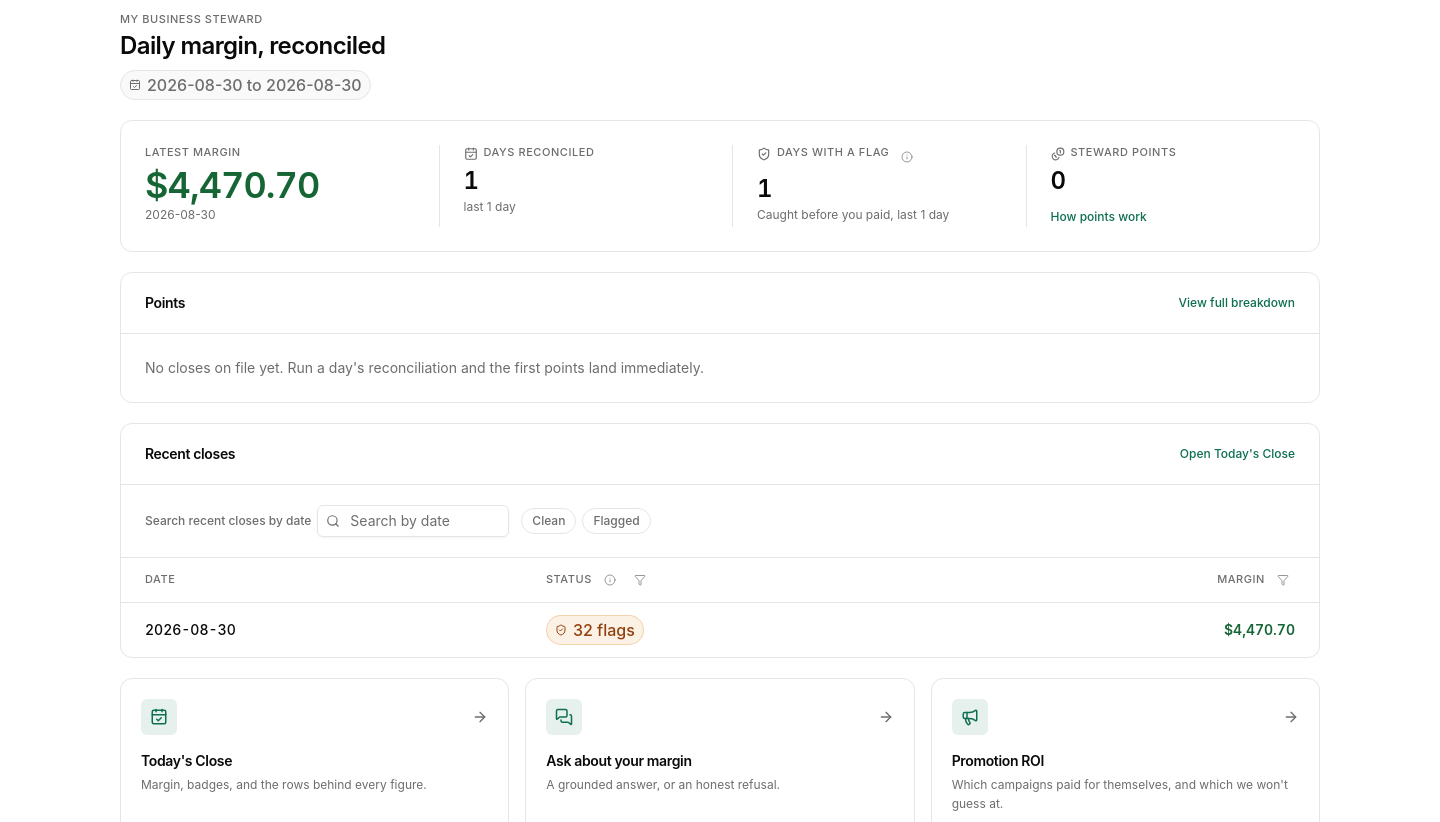
HomePage › summarizes many flags of the same type instead of joining each one's raw technical detail
This screenshot has width=1440, height=822.
Check: the heading "Recent closes" is shown, box [145,444,235,464]
Hover over the button with aria-label "What flagged 2026-08-30?": (595, 630) [546,615,644,645]
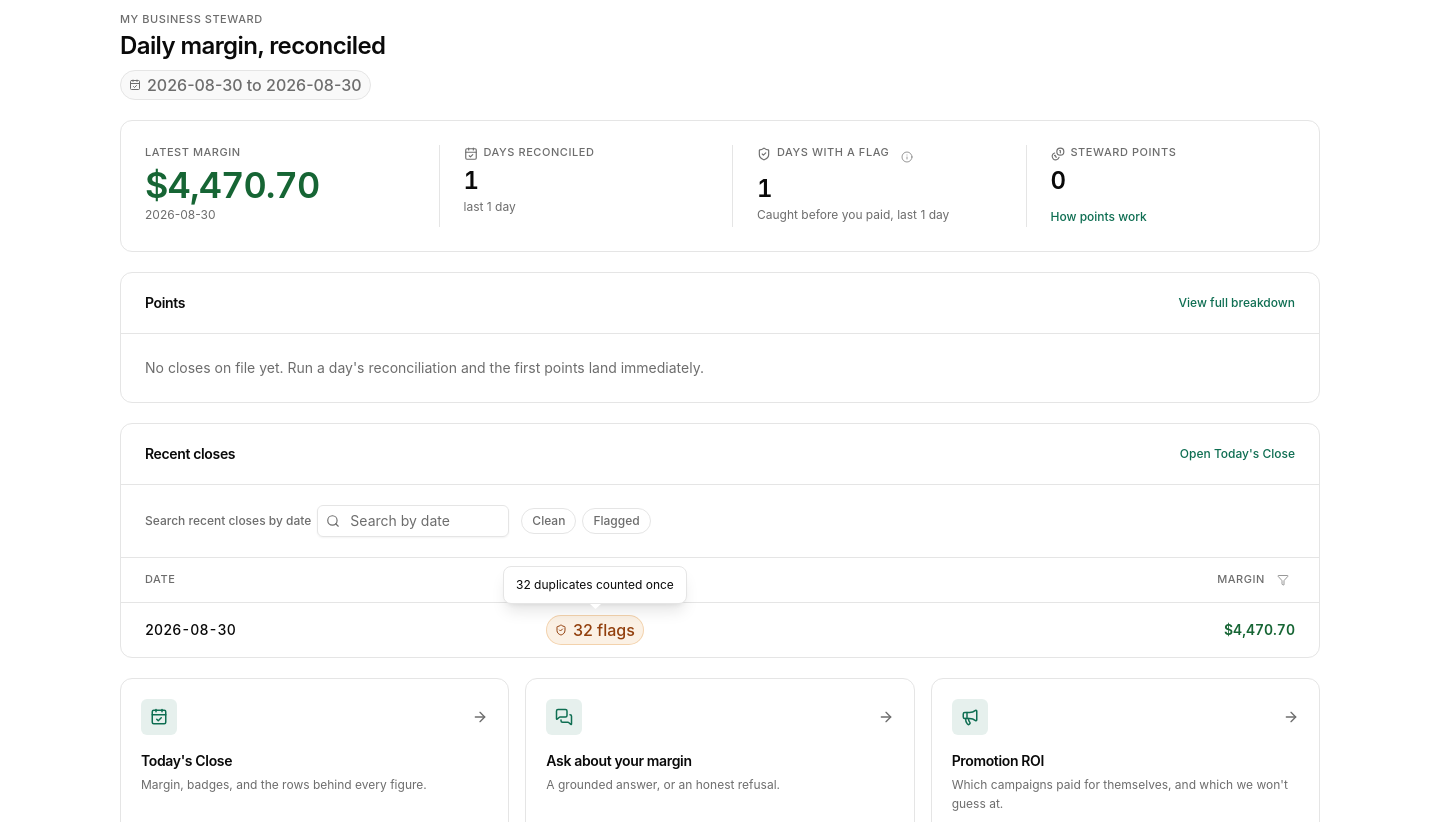
Check: the tooltip "32 duplicates counted once" is shown, box [503,566,687,604]
